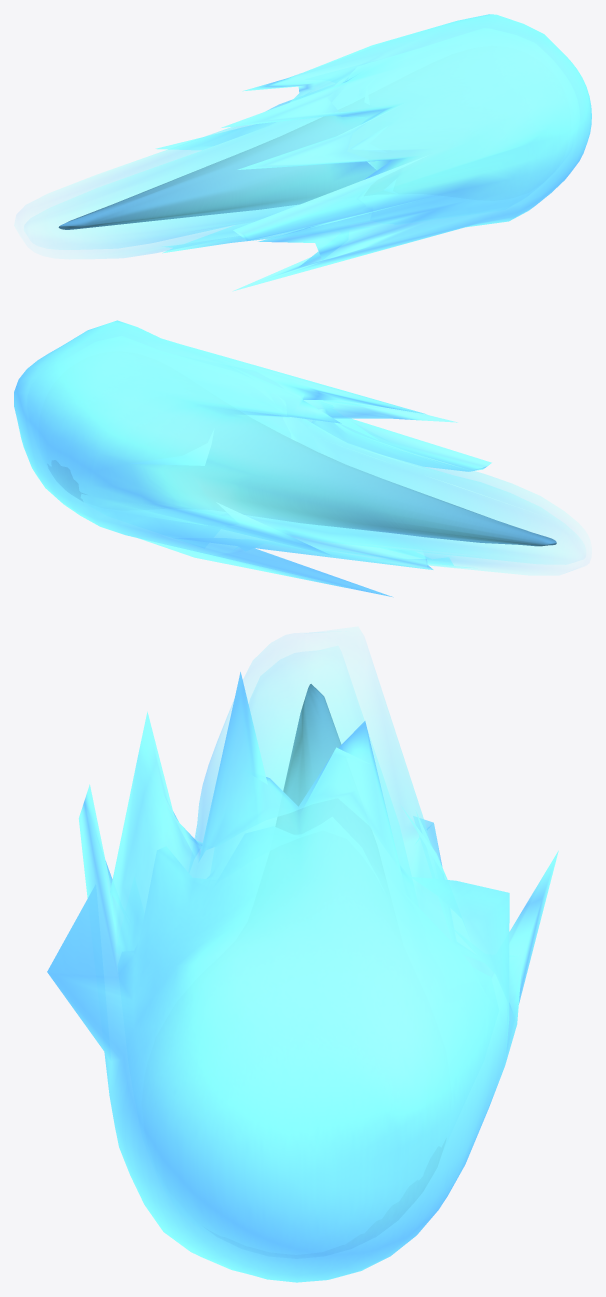
Rendered from blueball.glb.
The picture shows the model from 3 angles, top to bottom: view 1: azimuth 30°, elevation 25°; view 2: azimuth 150°, elevation 25°; view 3: azimuth 270°, elevation 25°; orthographic projection. The views are drawn at different scales.
Parts seen in each view (by area): view 1: Sphere.001_dorange_0, Sphere_Material.001_0; view 2: Sphere.001_dorange_0, Sphere_Material.001_0; view 3: Sphere.001_dorange_0, Sphere_Material.001_0.
Boxes of the visible parts, x1,y1,x2,y2 form: Sphere.001_dorange_0: (21,14,591,291); Sphere_Material.001_0: (58,116,359,229); Sphere.001_dorange_0: (14,320,585,597); Sphere_Material.001_0: (72,428,556,546); Sphere.001_dorange_0: (47,627,558,1282); Sphere_Material.001_0: (283,684,341,805).
Bounding box in the file's own units: 1.43 × 0.4595 × 0.5749.
2 materials, 1 textured.
